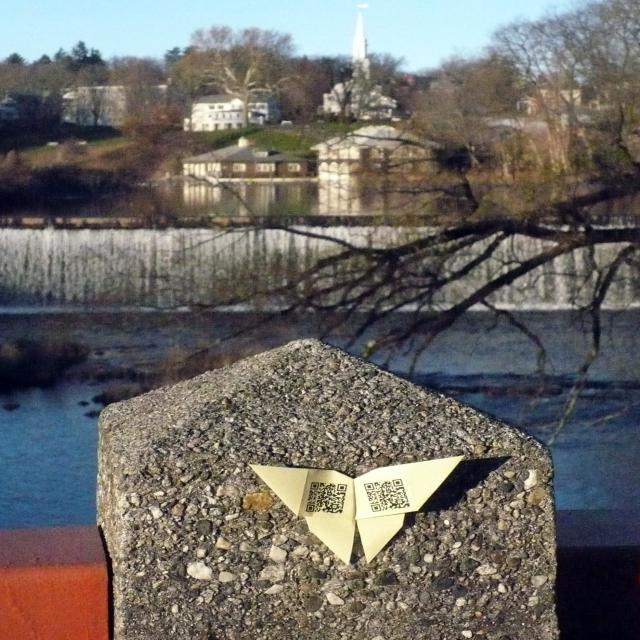qrcode: (364, 480, 411, 513), (307, 483, 348, 515)
